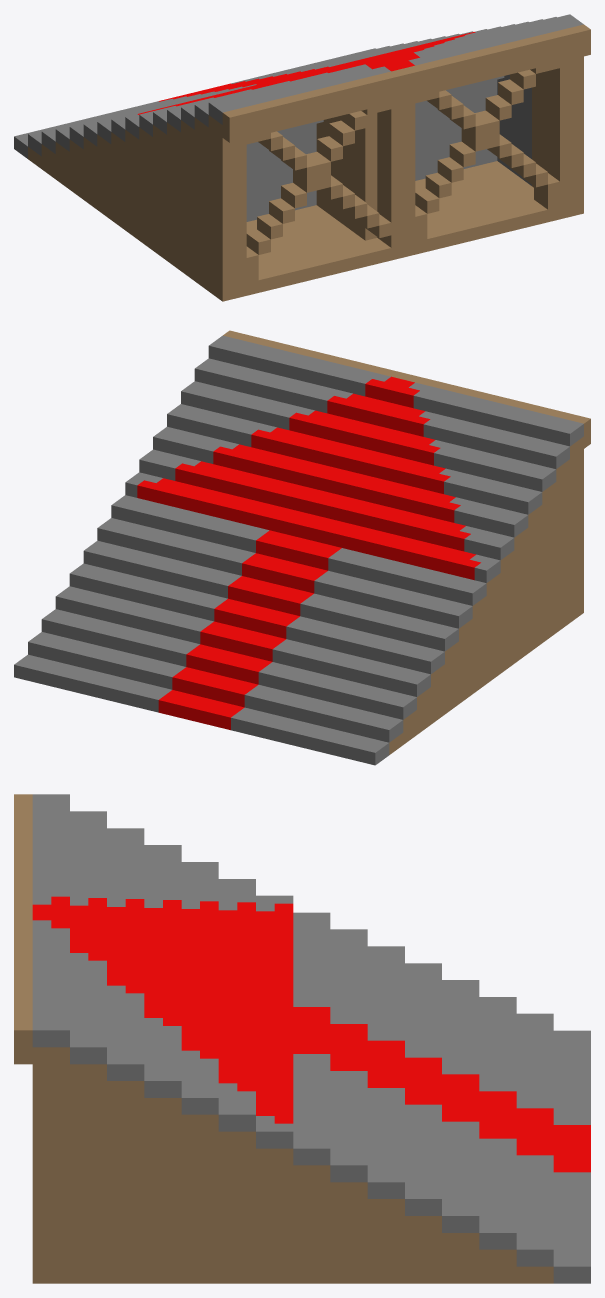
Rendered from Tremplin_final.obj.
3 renders of one model, top to bottom at view 1: azimuth 30°, elevation 25°; view 2: azimuth 150°, elevation 25°; view 3: azimuth 270°, elevation 25°, orthographic. The views are drawn at different scales.
Size of the model in its own units: 30 by 15 by 31.
1 material, 1 textured.
